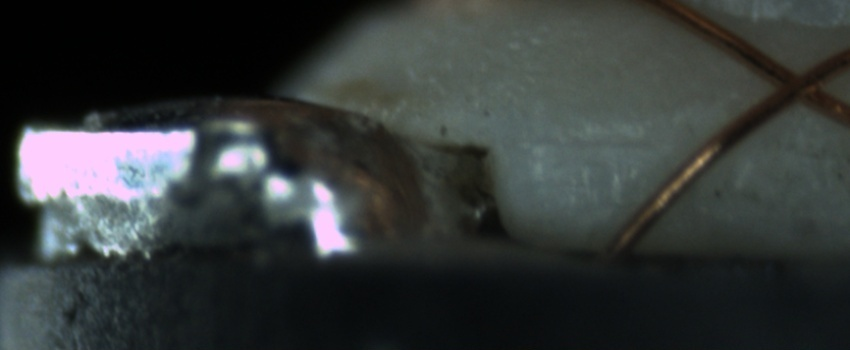CL: (749, 48, 837, 118)
DL: (530, 108, 674, 174)
